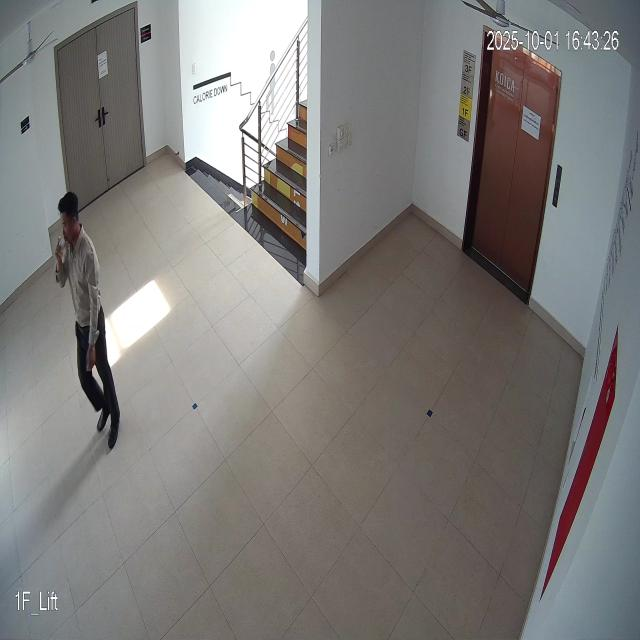face: (54, 190, 84, 250)
